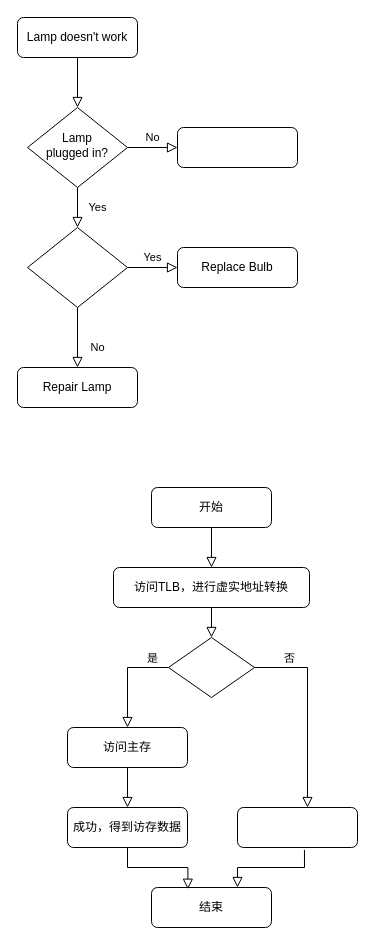
Some shapes in this 375 by 945 pixel diagram are drawn without their labels. The box of each missing label's shape, as (x1, y1, x2, y2) in pixels:
Bulb burned out?: (26, 226, 128, 308)
Plug in lamp: (176, 126, 298, 168)
失败，记录异常信息: (236, 806, 358, 848)
是否成功: (168, 636, 254, 698)
